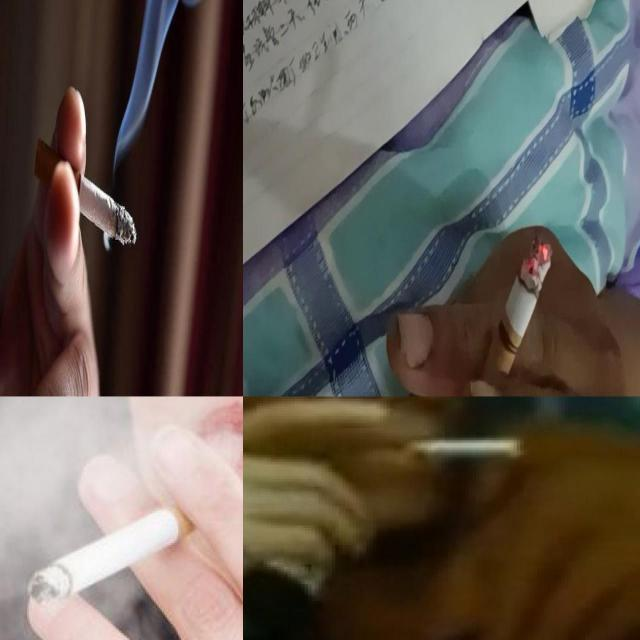smoke: (28, 488, 214, 604), (464, 234, 552, 396), (34, 136, 138, 248), (404, 433, 520, 458)
